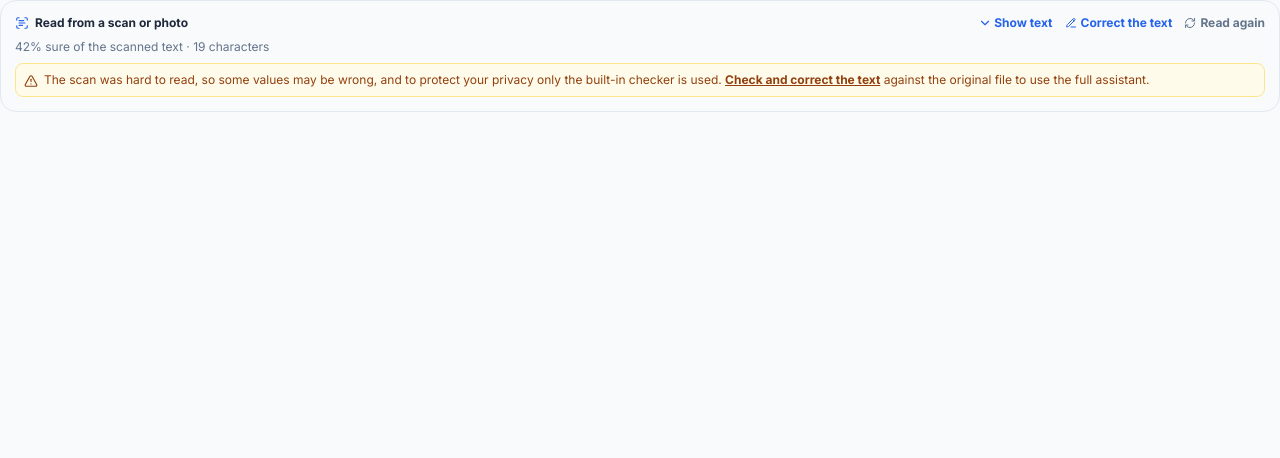
Scenario: correcting text read from a scan › low confidence is explained, and the corrected text is saved
This screenshot has width=1280, height=458.
Check: the text "only the built-in checker is used" is shown, box [44, 72, 722, 87]
Step 1. Click the button "Correct the text" → (1118, 23), box [1064, 15, 1172, 31]
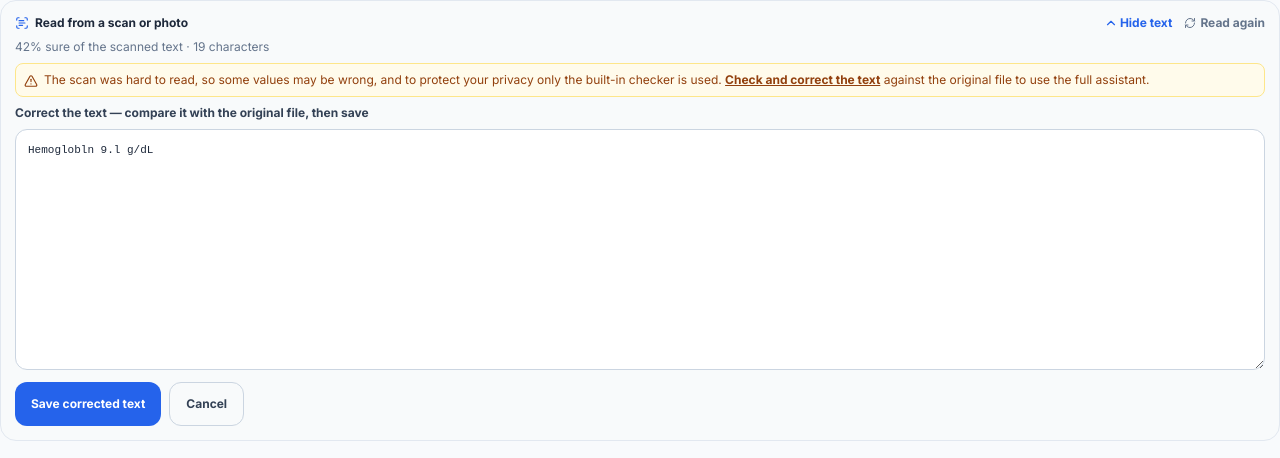
Step 2. Replace the text in the text box labelled "compare it with the original file" with "Hemoglobin 9.1 g/dL" → (640, 249), box [15, 129, 1265, 370]
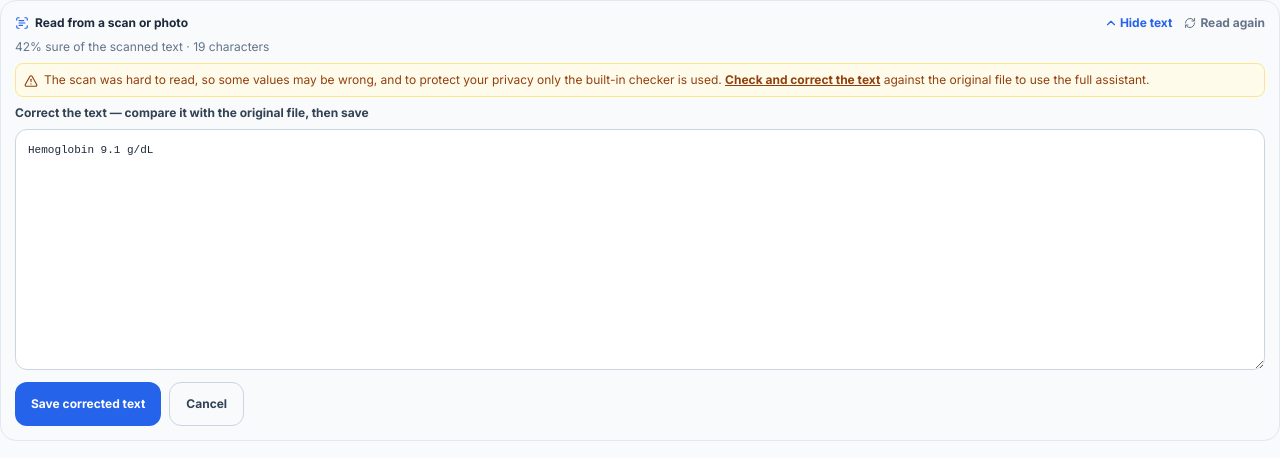
Step 3. Click the button "Save corrected text" → (88, 404), box [15, 382, 161, 426]
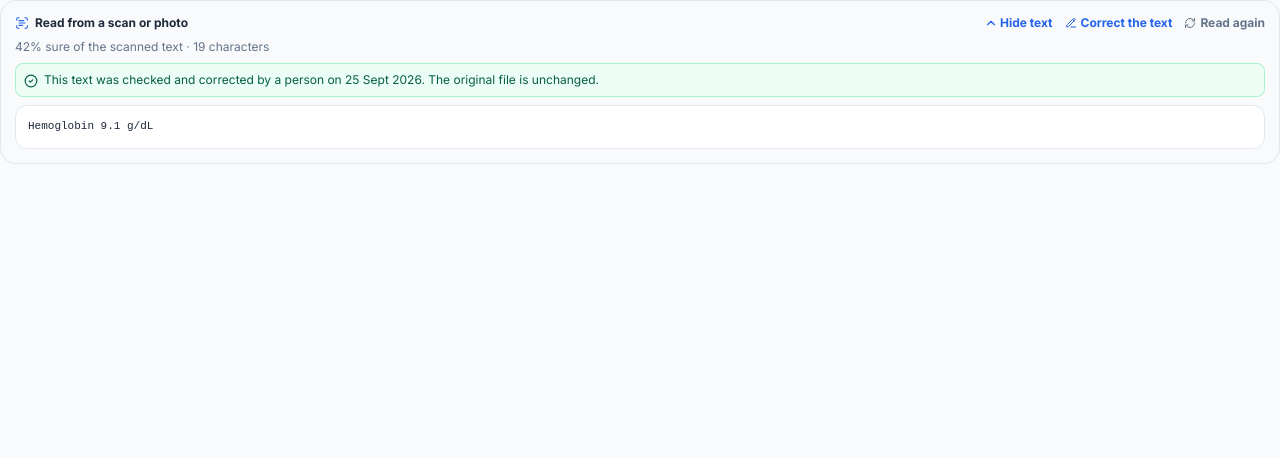
Check: the text "checked and corrected by a person" is shown, box [44, 72, 599, 87]
Check: the text "only the built-in checker is used" is gone
